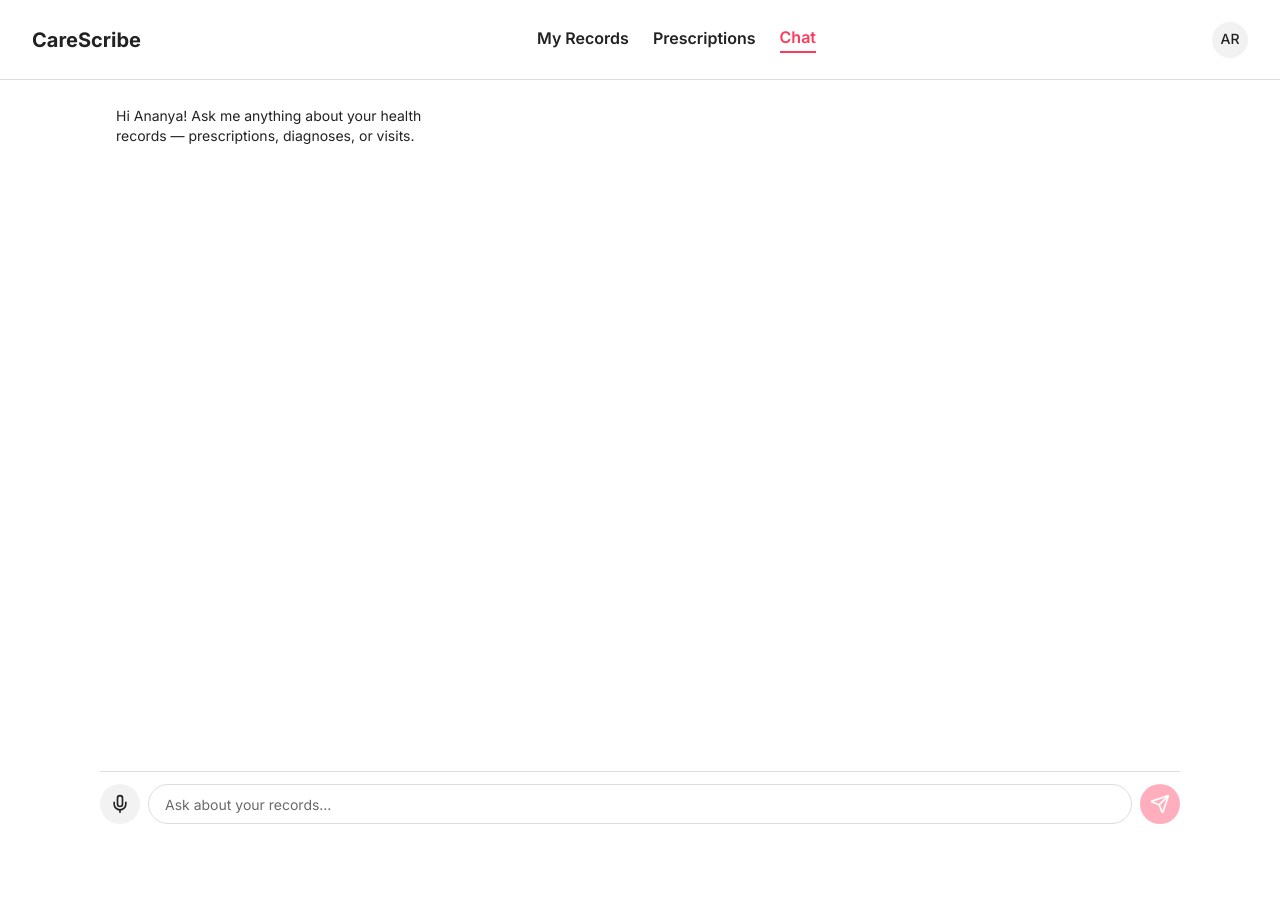
Test: chat assistant › sends full history with each chat request
(page scrolled)
Type "first question" into the field named "Message" at (640, 804), box x1=148 y1=784 x2=1132 y2=824
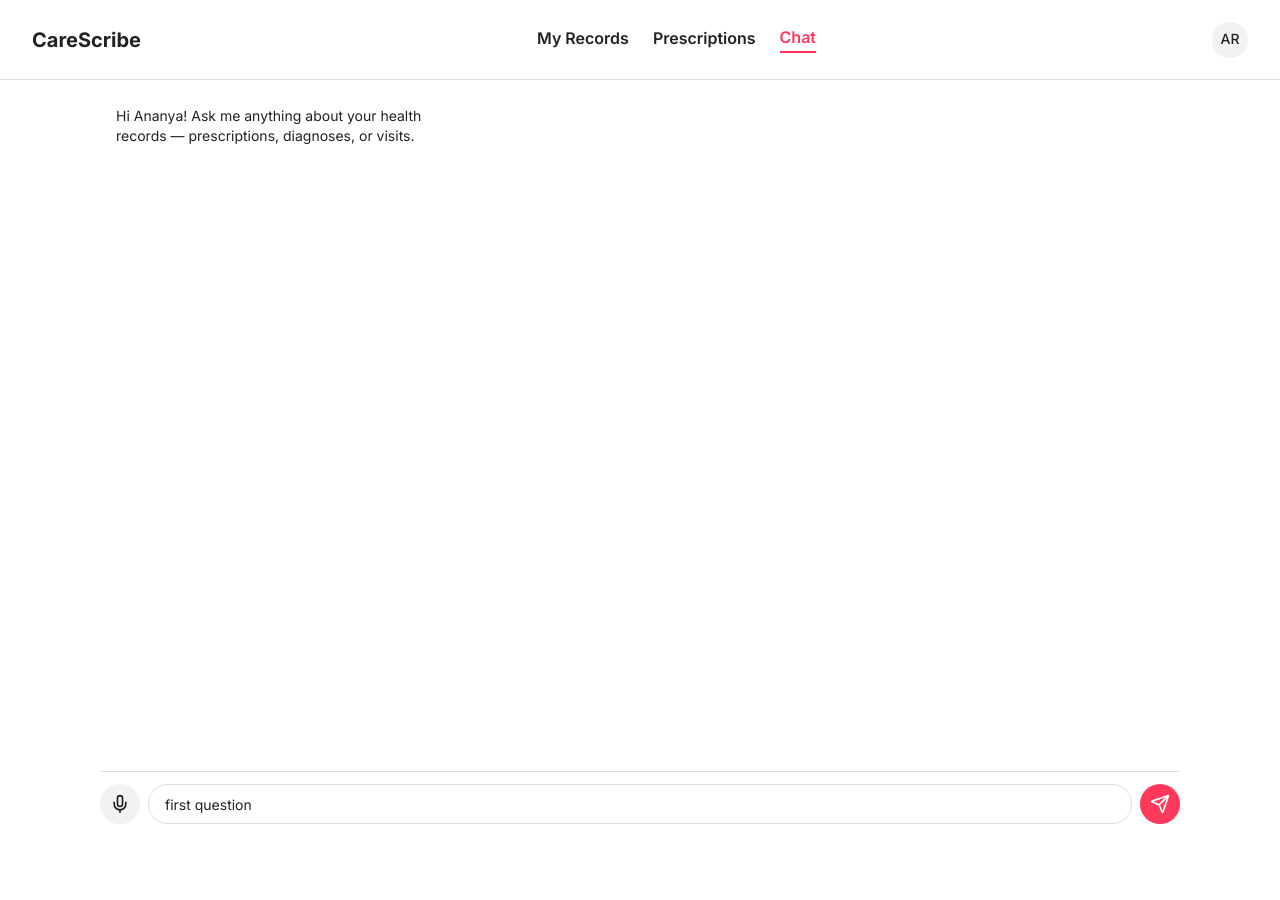
Click the button named "Send message" at (1160, 804), box x1=1140 y1=784 x2=1180 y2=824
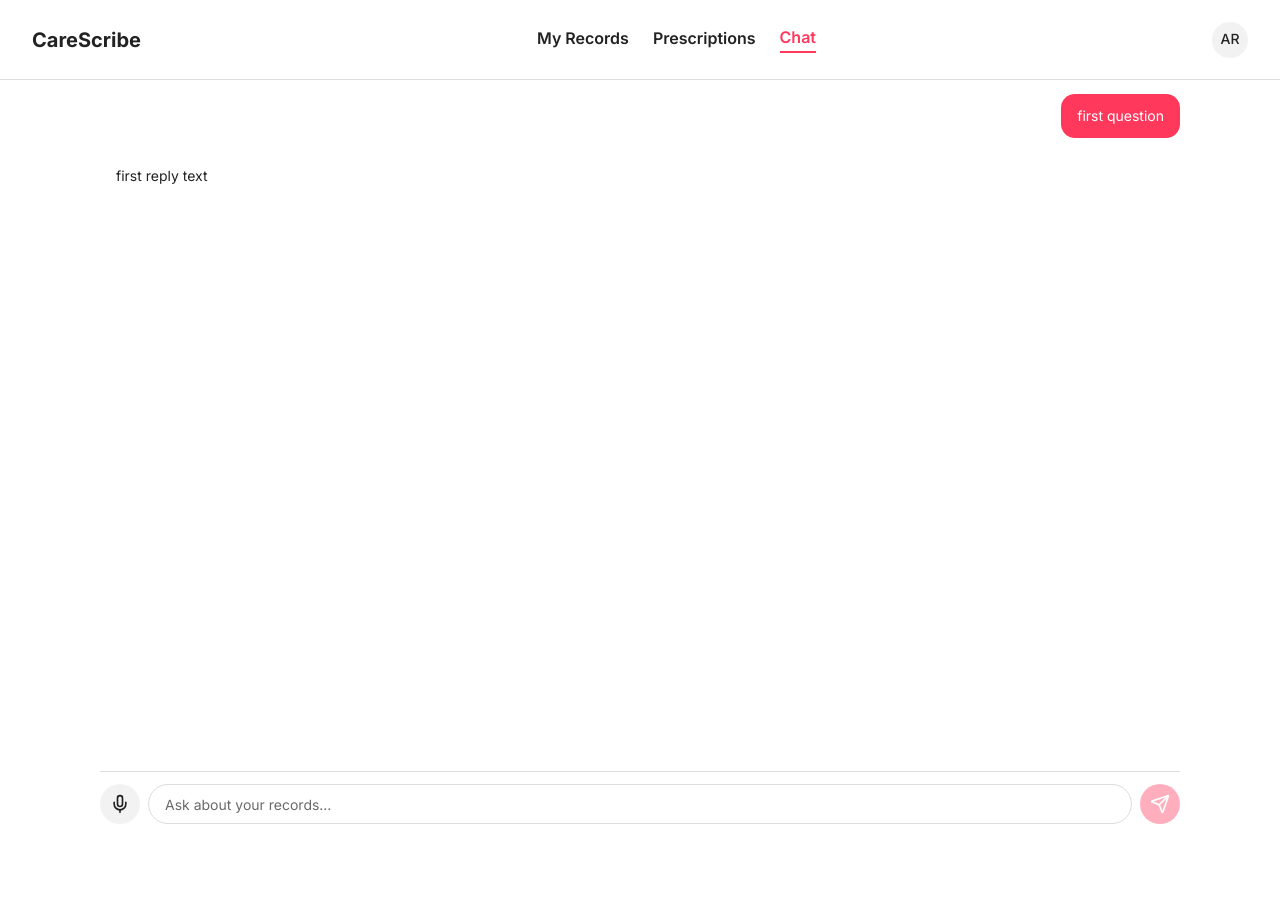
Type "second question" into the field named "Message" at (640, 804), box x1=148 y1=784 x2=1132 y2=824
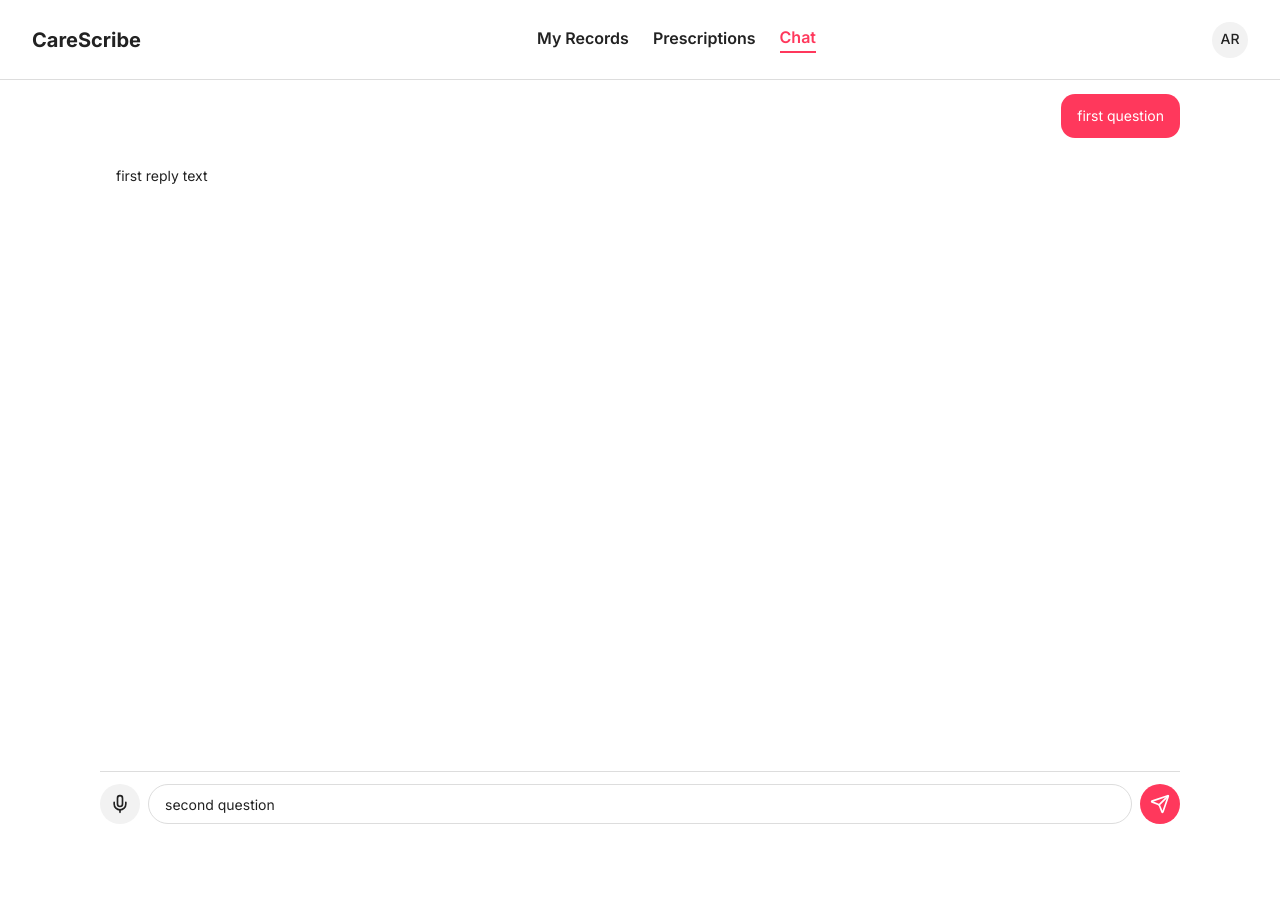
Click the button named "Send message" at (1160, 804), box x1=1140 y1=784 x2=1180 y2=824
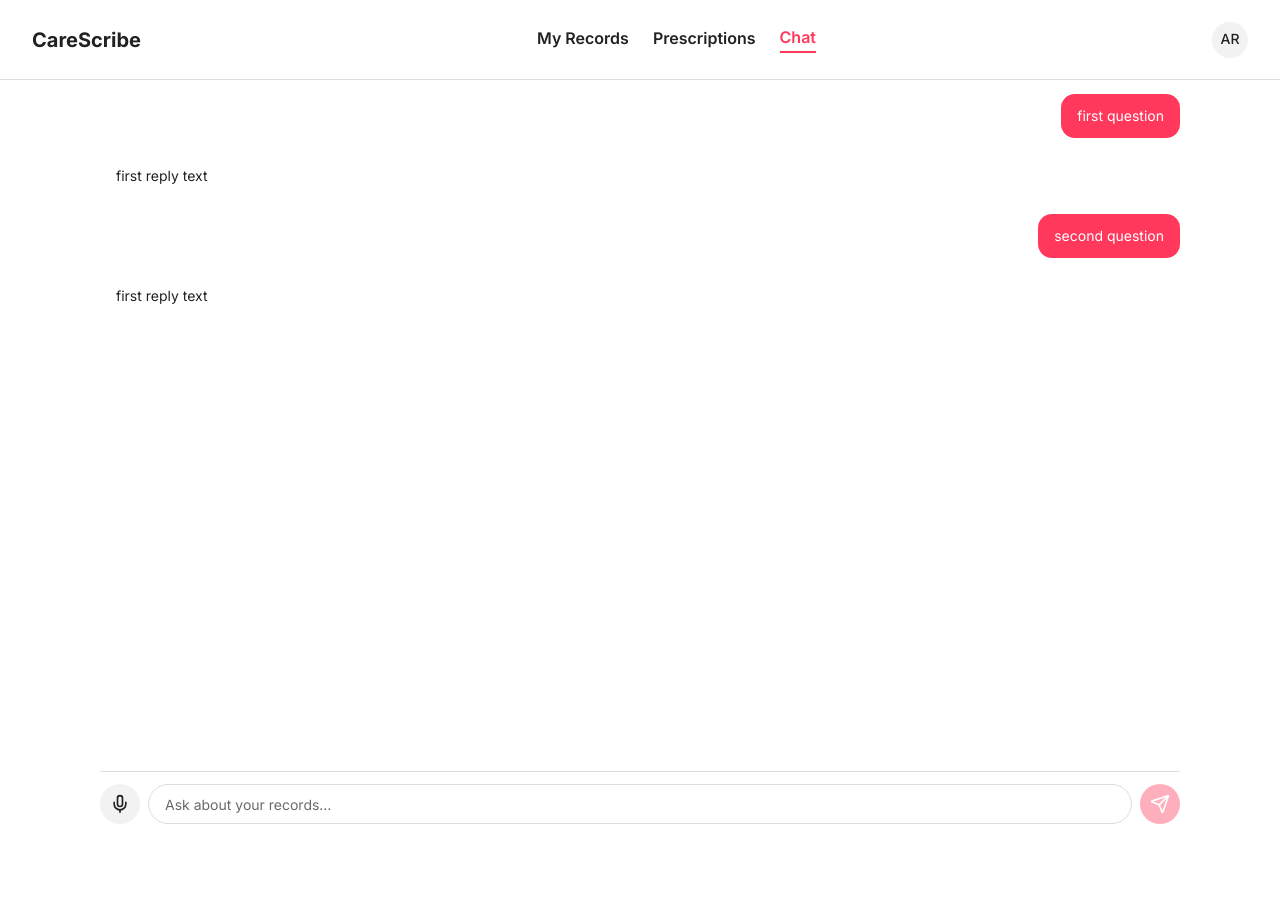
Check: the text "second question" is shown, box x1=1054 y1=226 x2=1164 y2=246
